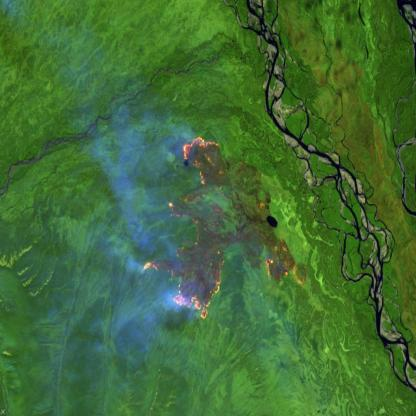fire: (142, 252, 227, 324), (179, 126, 222, 188), (263, 254, 292, 284), (165, 194, 183, 223)
